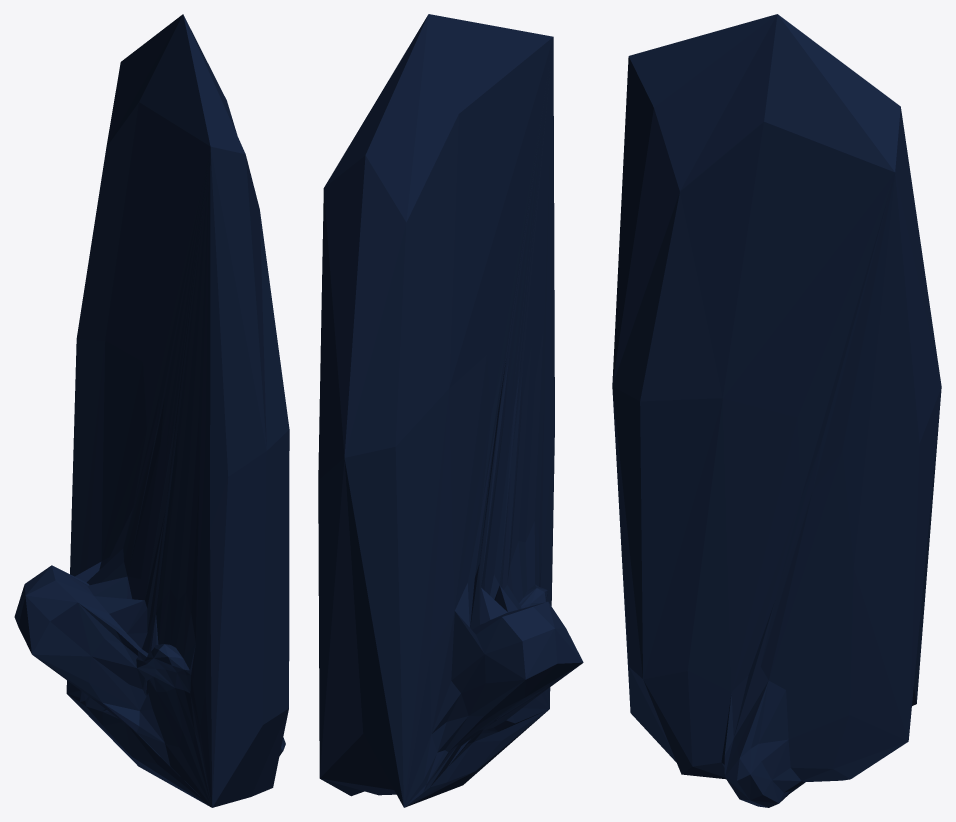
3 views of the same model, side by side, from view 1: azimuth 30°, elevation 25°; view 2: azimuth 150°, elevation 25°; view 3: azimuth 270°, elevation 25° (orthographic). The views are drawn at different scales.
Visible parts, largest first — view 1: 713_Cube.2865; view 2: 713_Cube.2865; view 3: 713_Cube.2865.
Boxes of the visible parts, <box> form: 713_Cube.2865: <box>14,14,289,807</box>; 713_Cube.2865: <box>318,14,583,807</box>; 713_Cube.2865: <box>612,14,941,807</box>.
Bounding box in the file's own units: 3.93 × 12.48 × 4.83.
